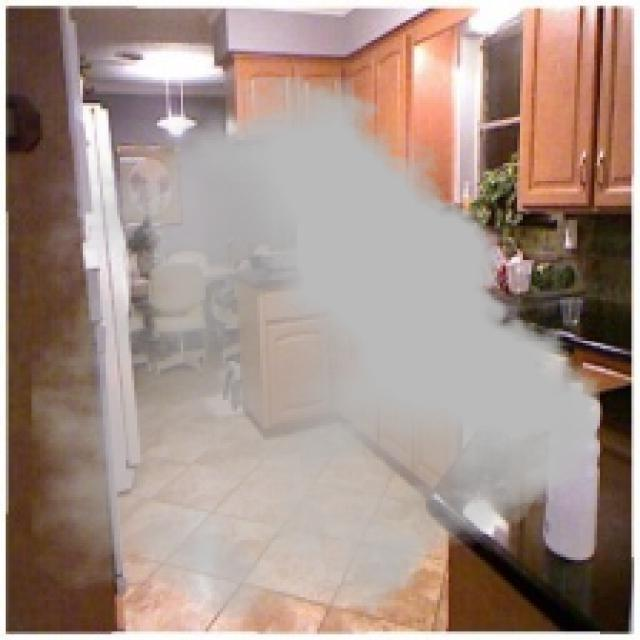Smoke: (31, 77, 600, 623)
